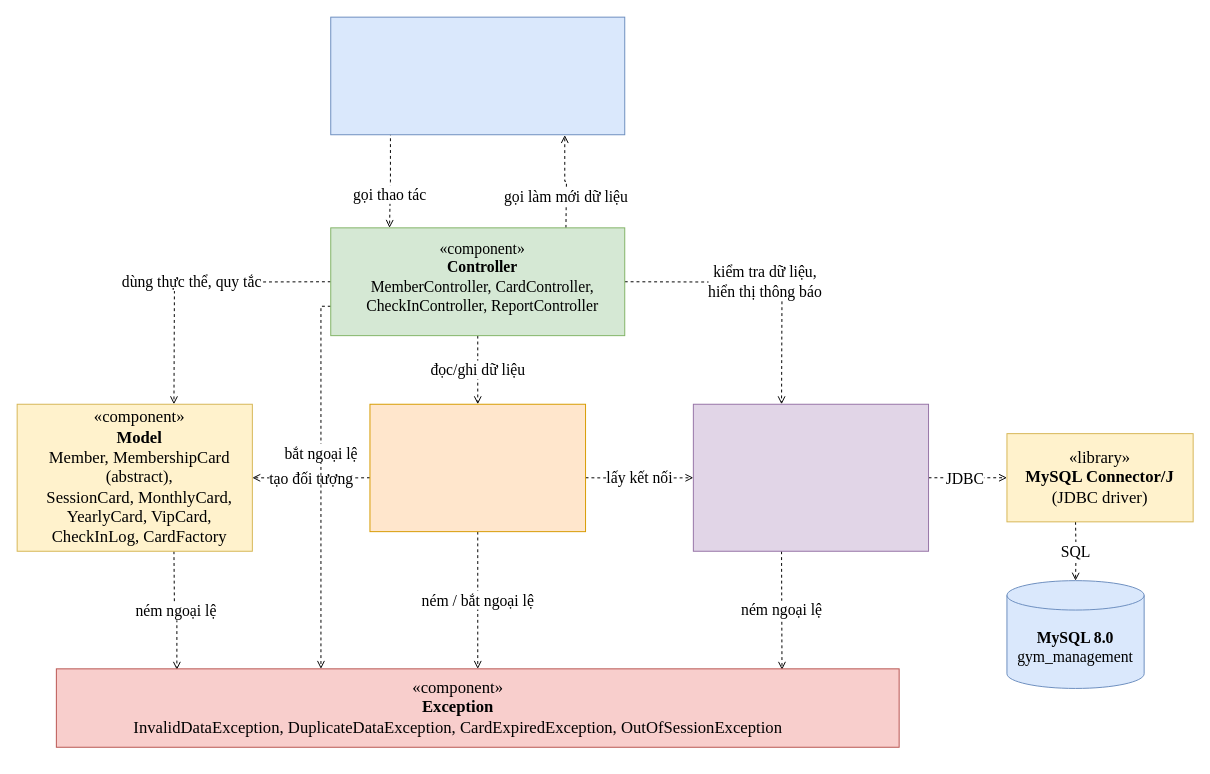
Some shapes in this 1210 by 774 pixel diagram are drawn without their labels. Here are the shapes that lost their labels. From the top down, the box of each, then its label:
(330, 16, 625, 135): «component» View MainFrame, MemberPanel, CardPanel, CheckInPanel, ReportPanel
(369, 403, 586, 532): «component» DAO MemberDAO, CardDAO, CheckInDAO, ReportDAO
(692, 403, 929, 551): «component» Util DBConnection (Singleton), Validator, DialogUtil
